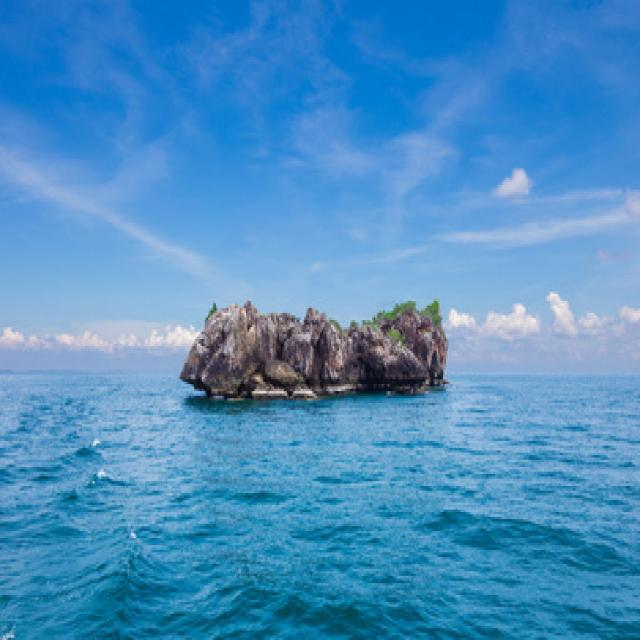island: (187, 271, 462, 403)
